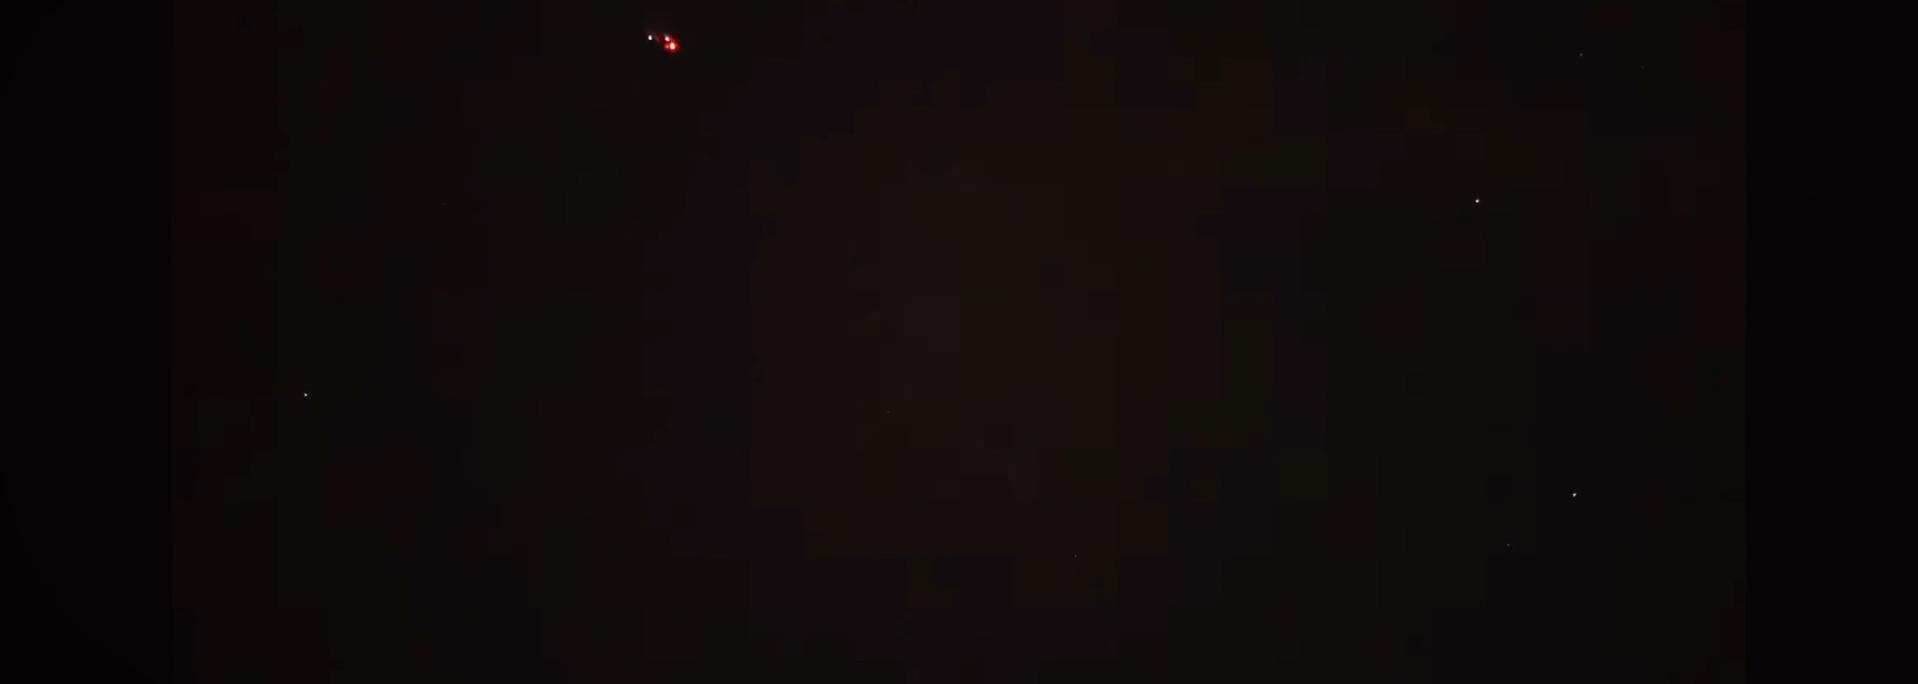Plane: (610, 13, 720, 65)
